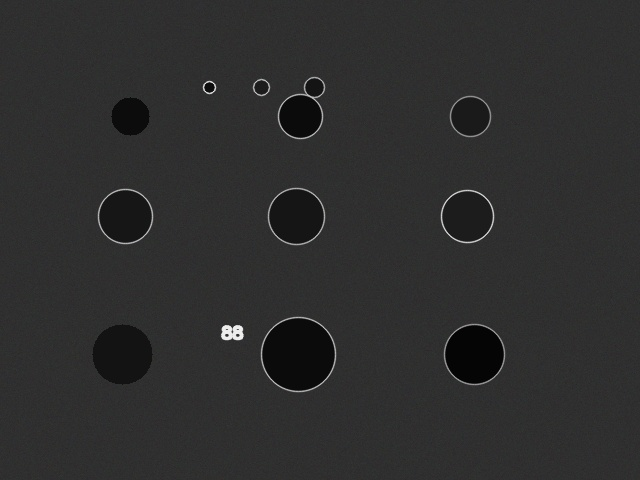hole: (261, 317, 335, 391), (92, 324, 152, 384), (444, 324, 504, 384), (268, 188, 324, 244), (98, 189, 152, 243), (441, 190, 493, 242), (278, 94, 322, 138), (450, 96, 490, 136), (111, 97, 149, 135), (304, 77, 324, 97), (253, 79, 269, 95), (203, 81, 215, 93)
